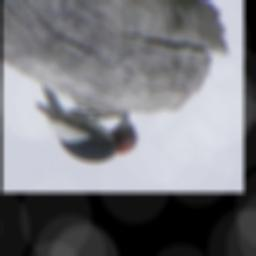Woodpecker: (31, 83, 142, 165)
